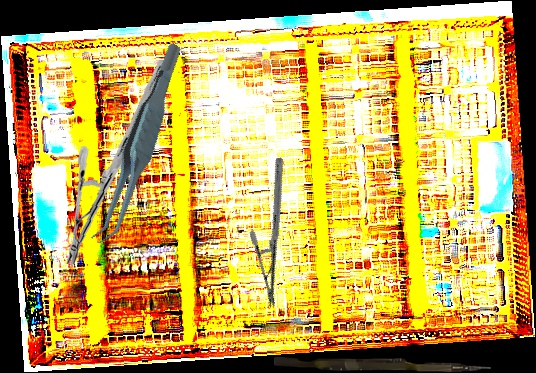Needle Holder: (51, 59, 184, 265), (211, 155, 340, 310)
Pusher: (274, 357, 491, 372)
Tissue Forceps: (57, 41, 221, 249)
